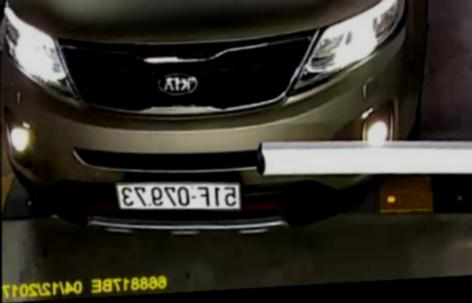License_Plate: (108, 173, 246, 221)
